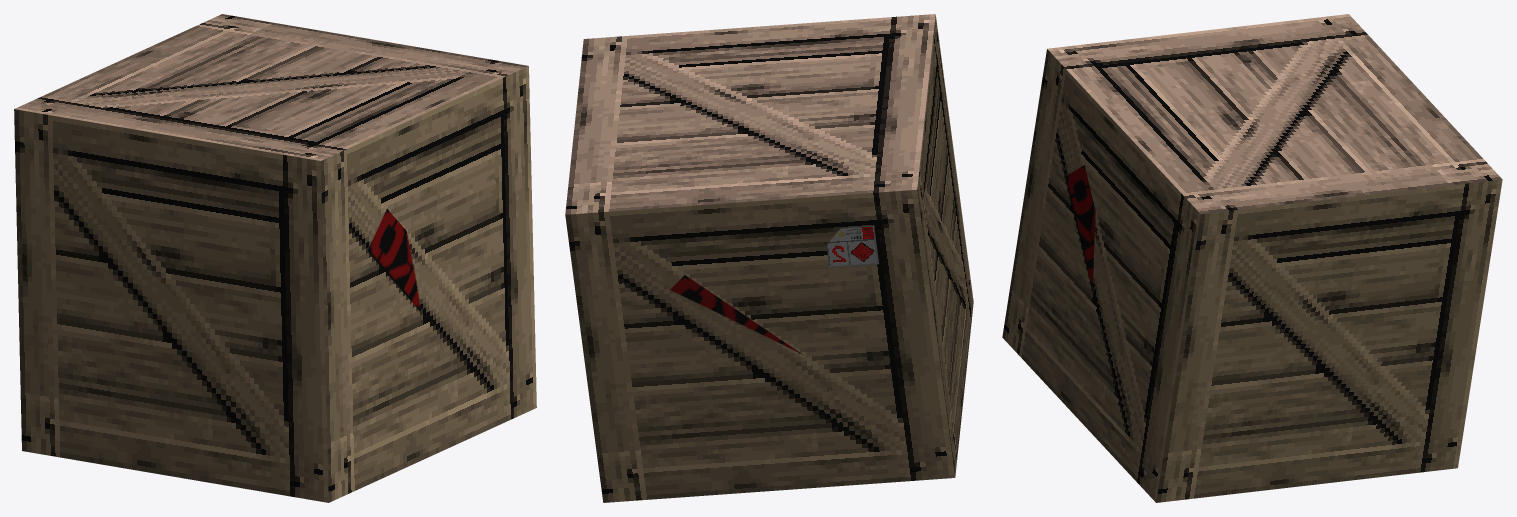
The model's file is wooden_crate_1.glb.
3 views of the same model, side by side, from view 1: azimuth 30°, elevation 25°; view 2: azimuth 150°, elevation 25°; view 3: azimuth 270°, elevation 25° (orthographic). The views are drawn at different scales.
Parts seen in each view (by area): view 1: Object; view 2: Object; view 3: Object.
Boxes of the visible parts, left/top/right/bottom form: Object: left=14, top=14, right=536, bottom=502; Object: left=565, top=14, right=973, bottom=502; Object: left=1002, top=14, right=1502, bottom=502.
Size of the model in its own units: 1.43 by 1.18 by 1.49.
7 materials, 7 textured.
